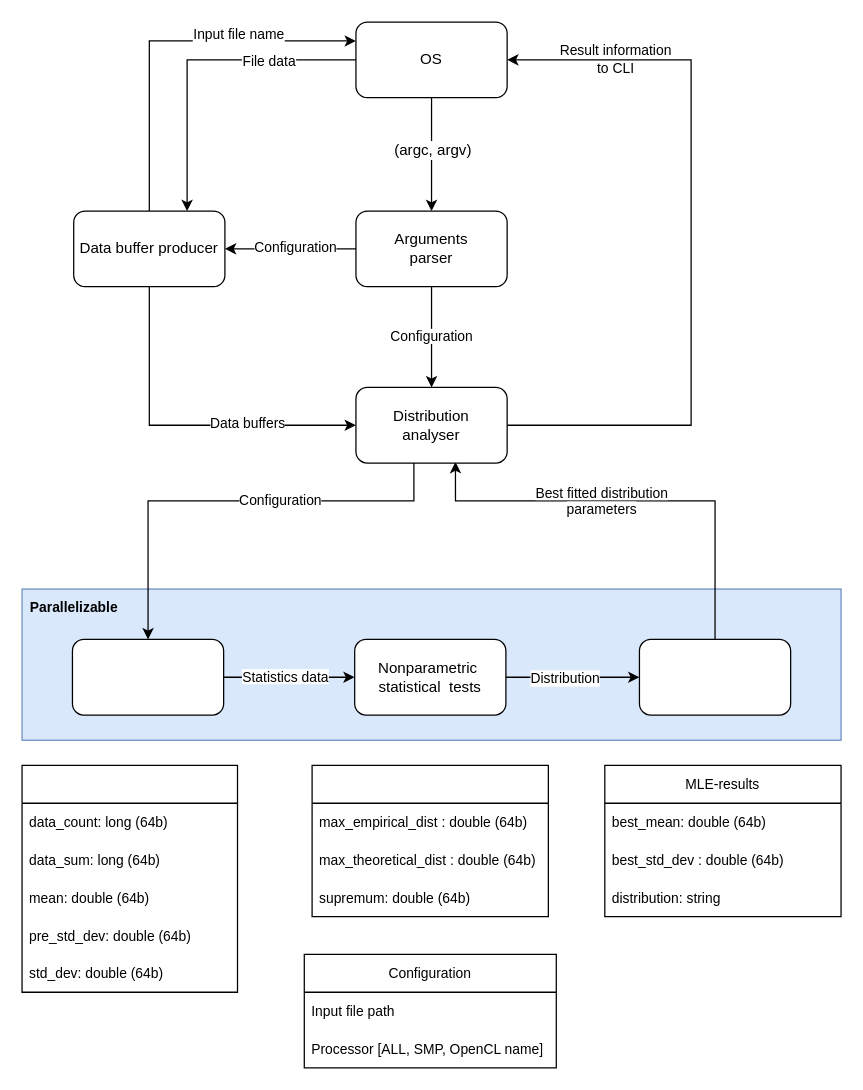
This 863x1090 diagram has some shape labels left out. The box of each missing label's shape, as (x1, y1, x2, y2) in pixels:
Data Statistics: (21, 764, 238, 992)
Descriptive statistics collector: (71, 638, 224, 715)
Maximum likelihood estimation (MLE): (638, 638, 791, 715)
Test-unit: (311, 764, 548, 917)
